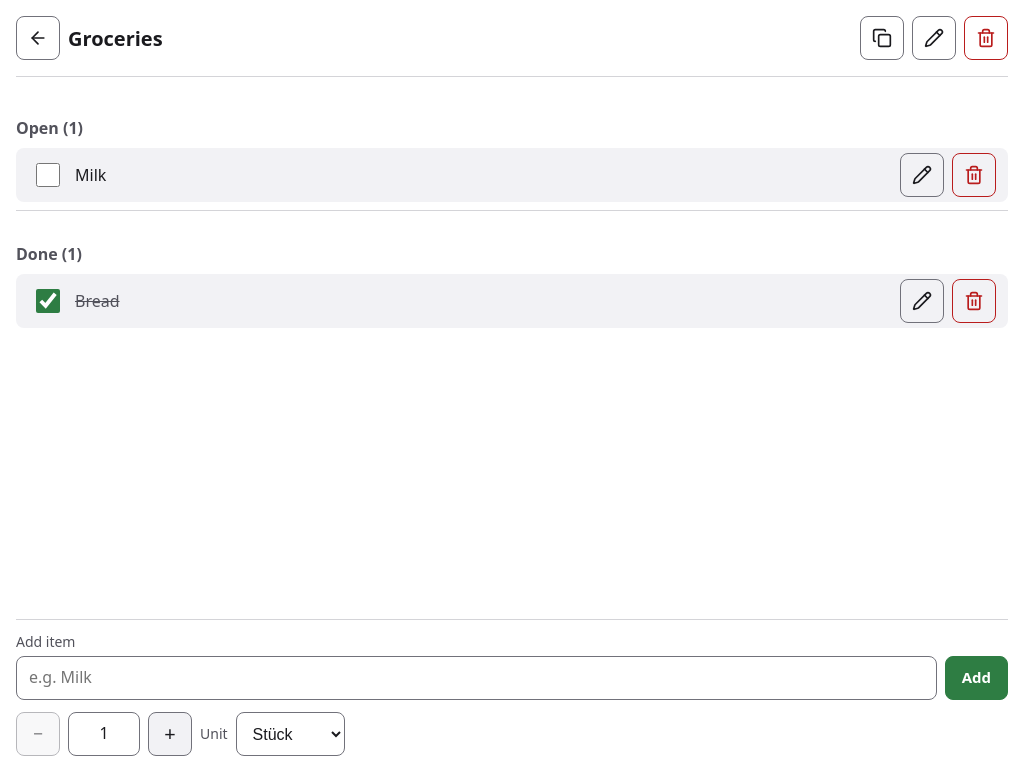
ListDetail › editing an item can change its unit
Expected: the text "Milk" is shown, [75, 164, 106, 187]
Click the button named "Edit Milk". click: (922, 175)
box: [900, 153, 944, 197]
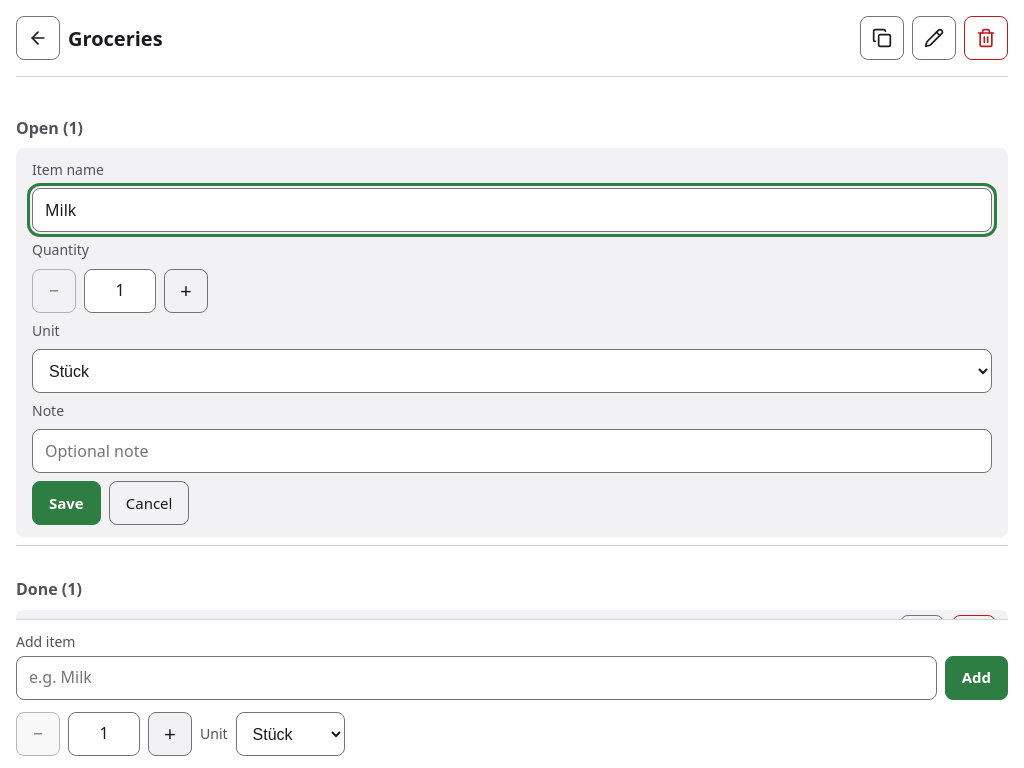
Select "l" in the dropdown labelled "Unit" below "Quantity". click: (512, 371)
box: [32, 349, 992, 393]
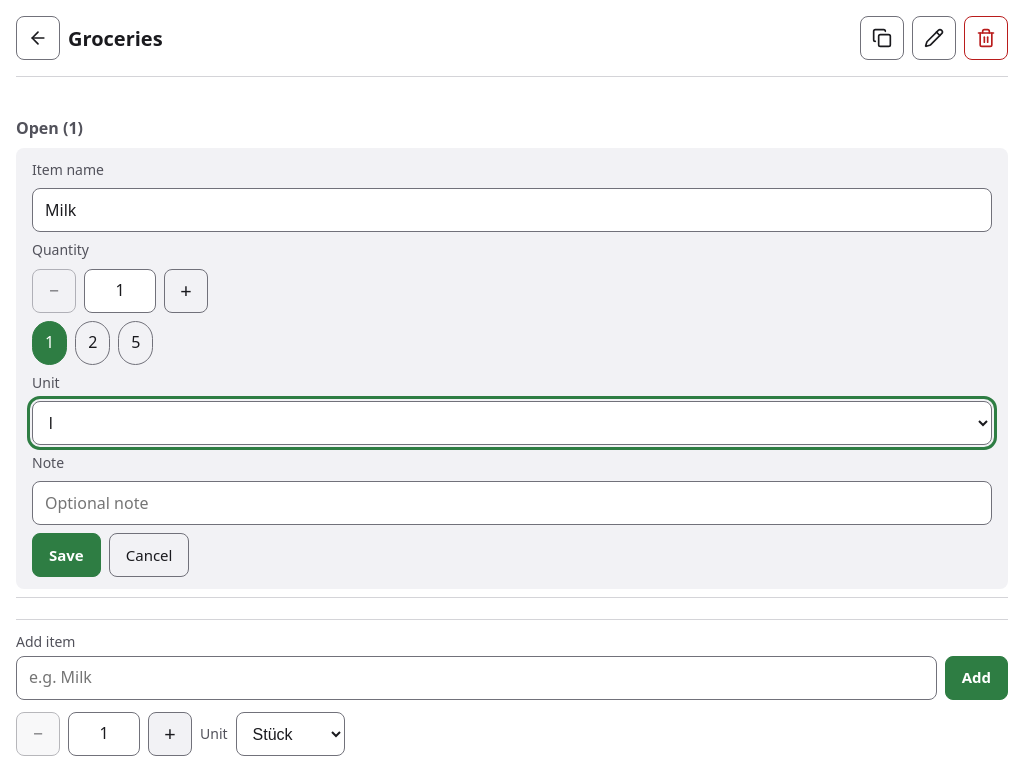
Click the button "Save". click: (66, 555)
box: [32, 533, 101, 577]
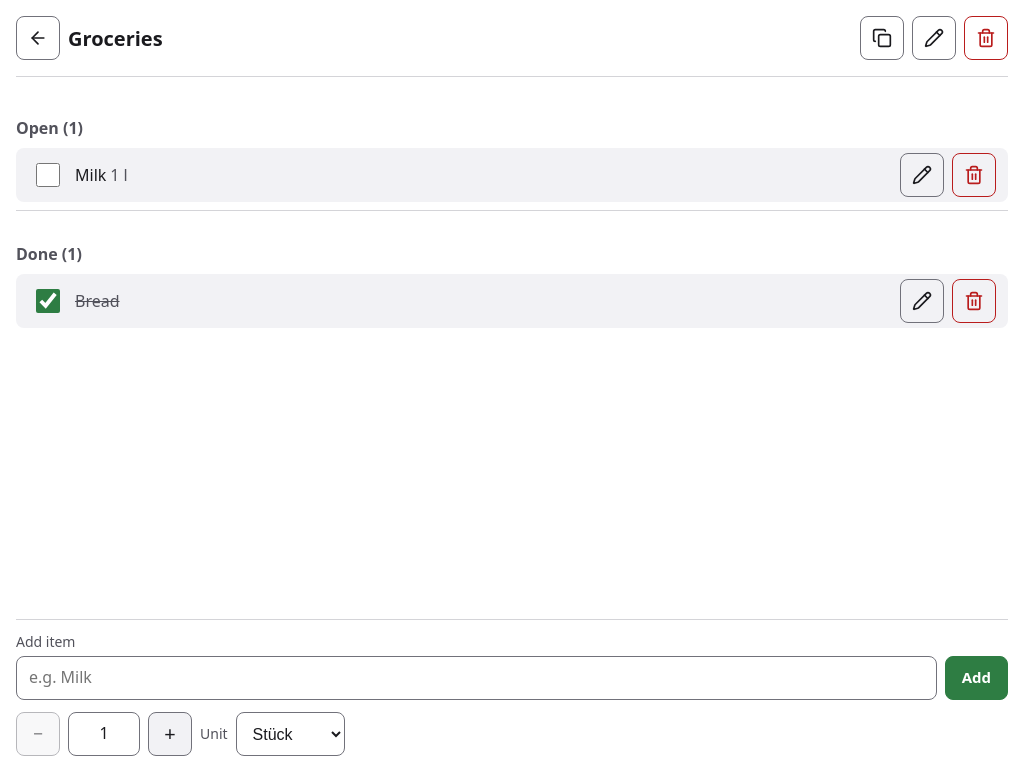
Now the text "1 l" is shown, box [110, 164, 128, 187]
